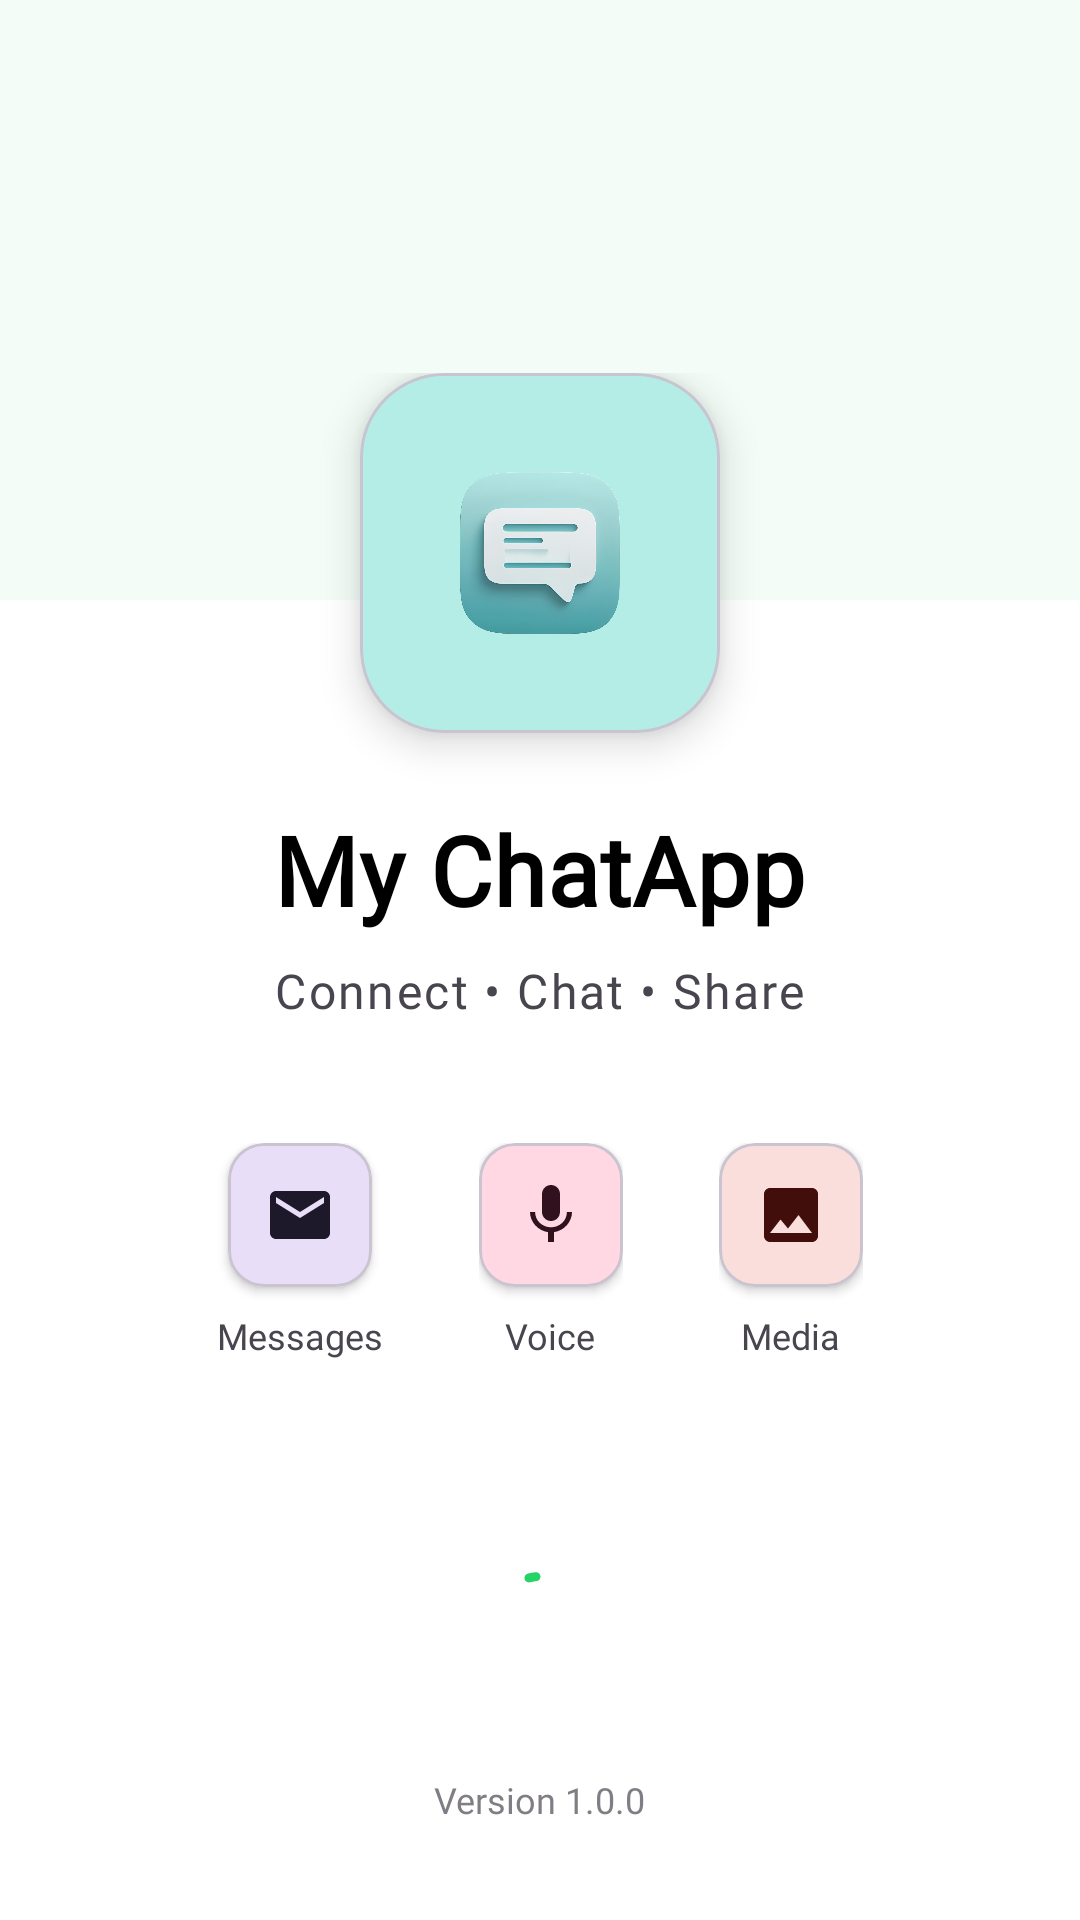

Icons on this 1080×1920 Android screen, each with the point to tap as [x,y]:
chat app: [540,553]
mic: [551,1213]
photo: [791,1215]
